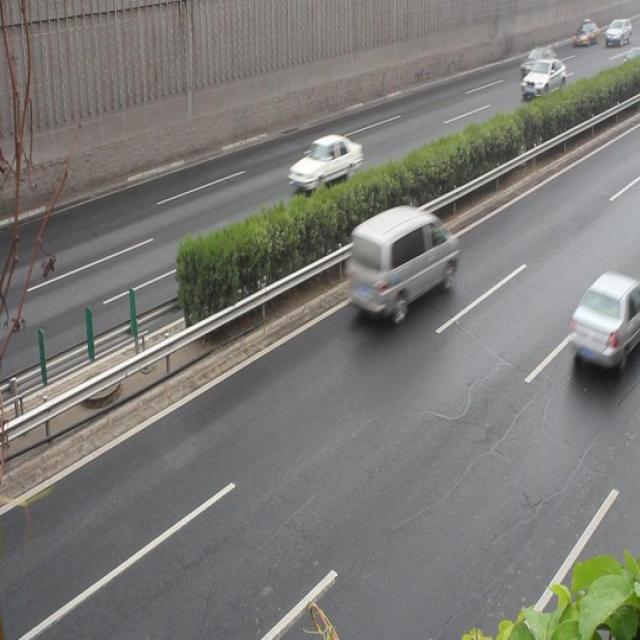car: (568, 270, 640, 366), (287, 132, 360, 194), (517, 56, 562, 100)
